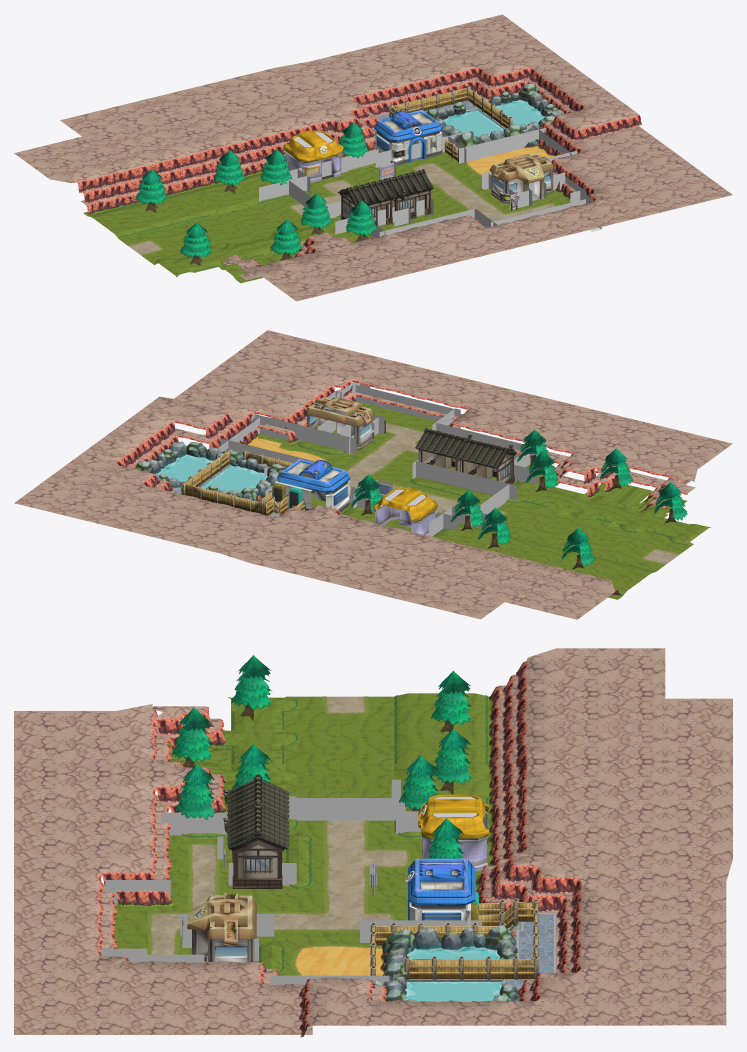
The model's file is Town.glb.
3 views of the same model, one above another, from view 1: azimuth 30°, elevation 25°; view 2: azimuth 150°, elevation 25°; view 3: azimuth 270°, elevation 25° (orthographic). The views are drawn at different scales.
Visible parts, largest first — view 1: weedCopy.001, COLL_All10, COLL_All13, COLL_All14, COLL_All6, COLL_All21, COLL_All28, COLL_All5; view 2: weedCopy.001, COLL_All20, COLL_All23, COLL_All5, COLL_All6, COLL_All10; view 3: weedCopy.001, COLL_All16, COLL_All2, COLL_All1, COLL_All3.
Boxes of the visible parts, bbox=[...] form: weedCopy.001: bbox=[14, 14, 732, 301]; COLL_All10: bbox=[459, 127, 545, 163]; COLL_All13: bbox=[288, 149, 381, 179]; COLL_All14: bbox=[259, 176, 310, 201]; COLL_All6: bbox=[379, 209, 477, 236]; COLL_All21: bbox=[335, 199, 433, 234]; COLL_All28: bbox=[375, 130, 473, 167]; COLL_All5: bbox=[491, 199, 588, 226]; weedCopy.001: bbox=[14, 330, 732, 619]; COLL_All20: bbox=[412, 461, 517, 500]; COLL_All23: bbox=[251, 414, 355, 454]; COLL_All5: bbox=[352, 385, 456, 421]; COLL_All6: bbox=[433, 423, 536, 458]; COLL_All10: bbox=[209, 438, 313, 462]; weedCopy.001: bbox=[14, 648, 732, 1037]; COLL_All16: bbox=[288, 798, 405, 820]; COLL_All2: bbox=[168, 812, 227, 835]; COLL_All1: bbox=[270, 975, 389, 985]; COLL_All3: bbox=[105, 880, 170, 902].
Bounding box in the file's own units: 190 × 18.36 × 153.
Materials: 49 (49 with a texture image).
